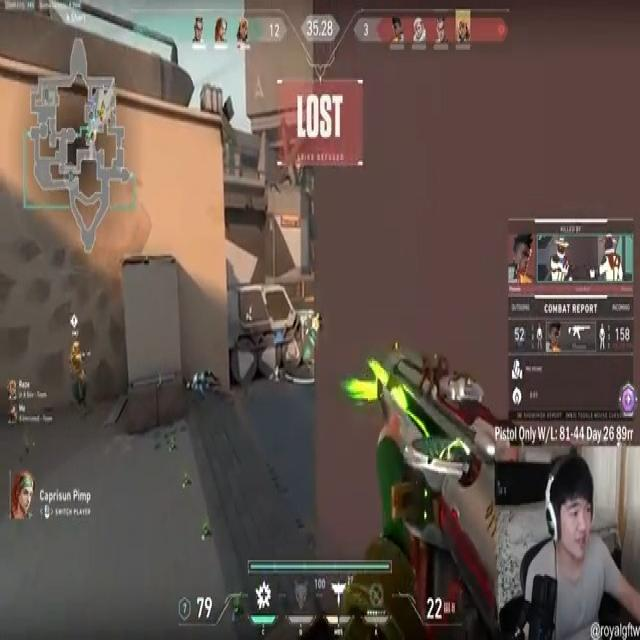ally: (64, 328, 95, 414)
